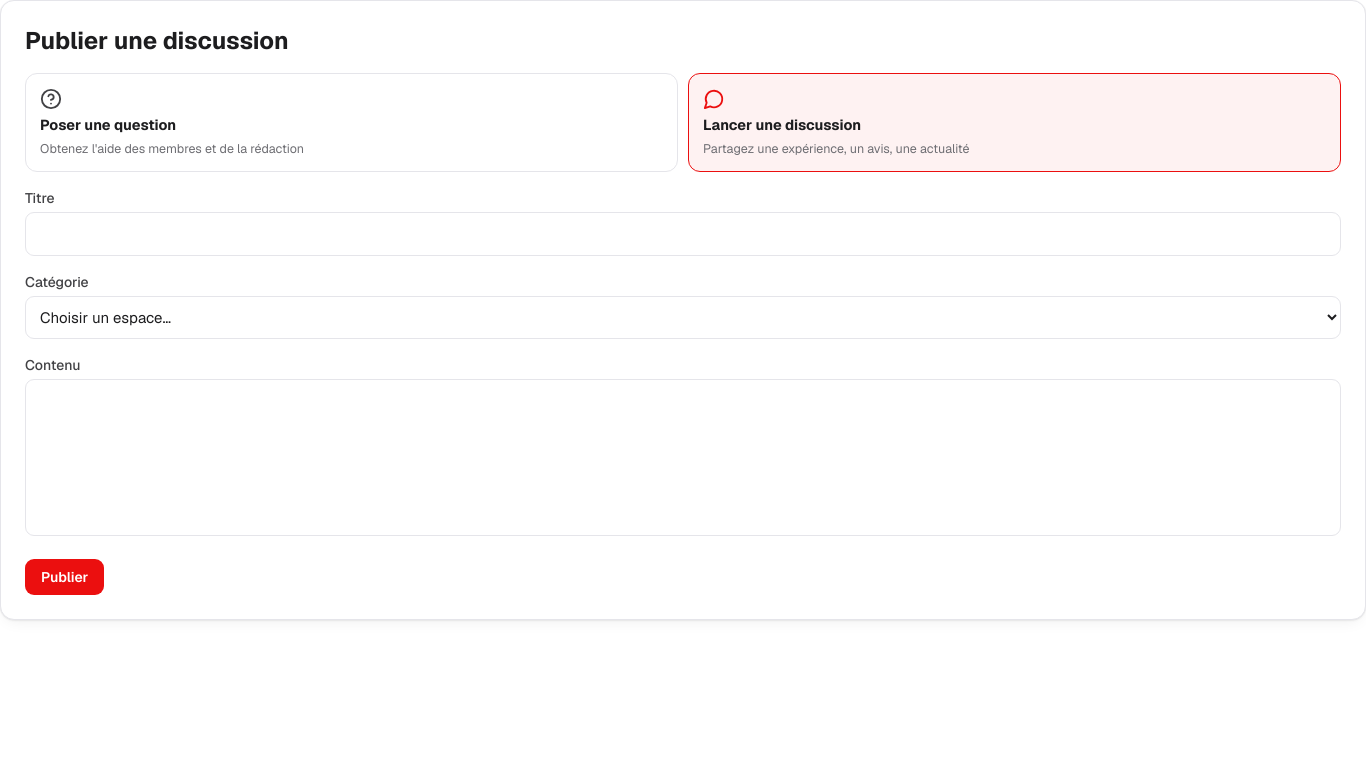
Test case: DiscussionForm › renders the server-mapped field error returned by the action
In the field labelled "Titre": (683, 234) x1=25 y1=212 x2=1341 y2=256, type "Un titre suffisamment long"
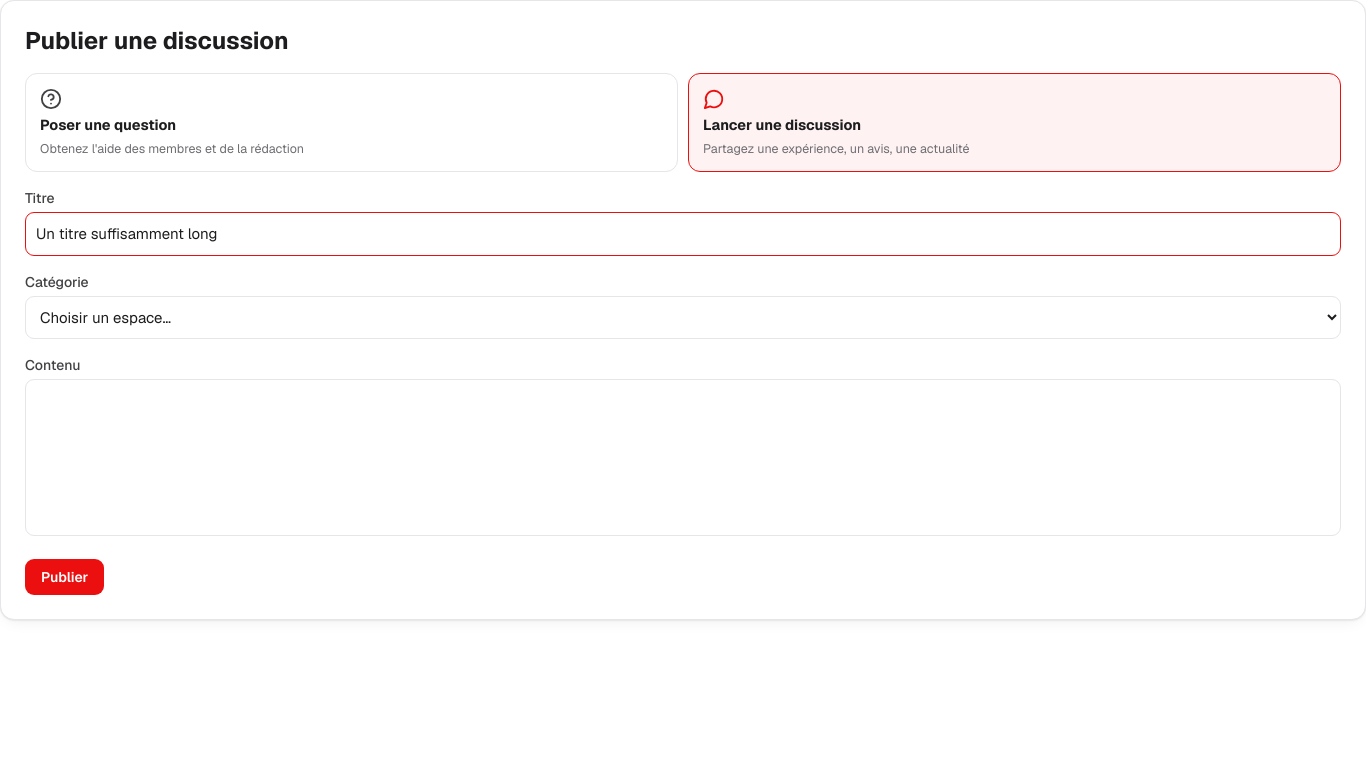
Select "Bourse & actions" in the dropdown labelled "Catégorie": (683, 318) x1=25 y1=296 x2=1341 y2=339
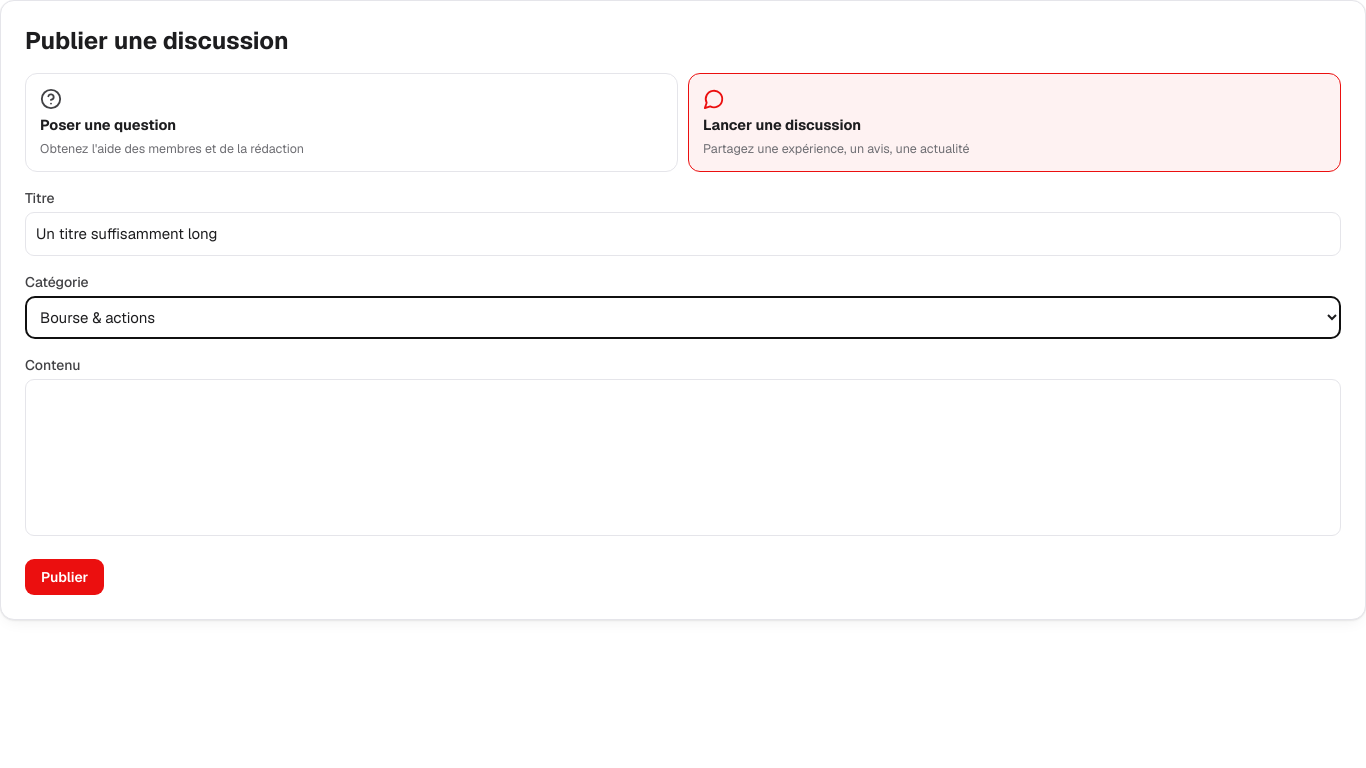
In the text box labelled "Contenu": (683, 458) x1=25 y1=379 x2=1341 y2=536, type "Un contenu valide pour la discussion."
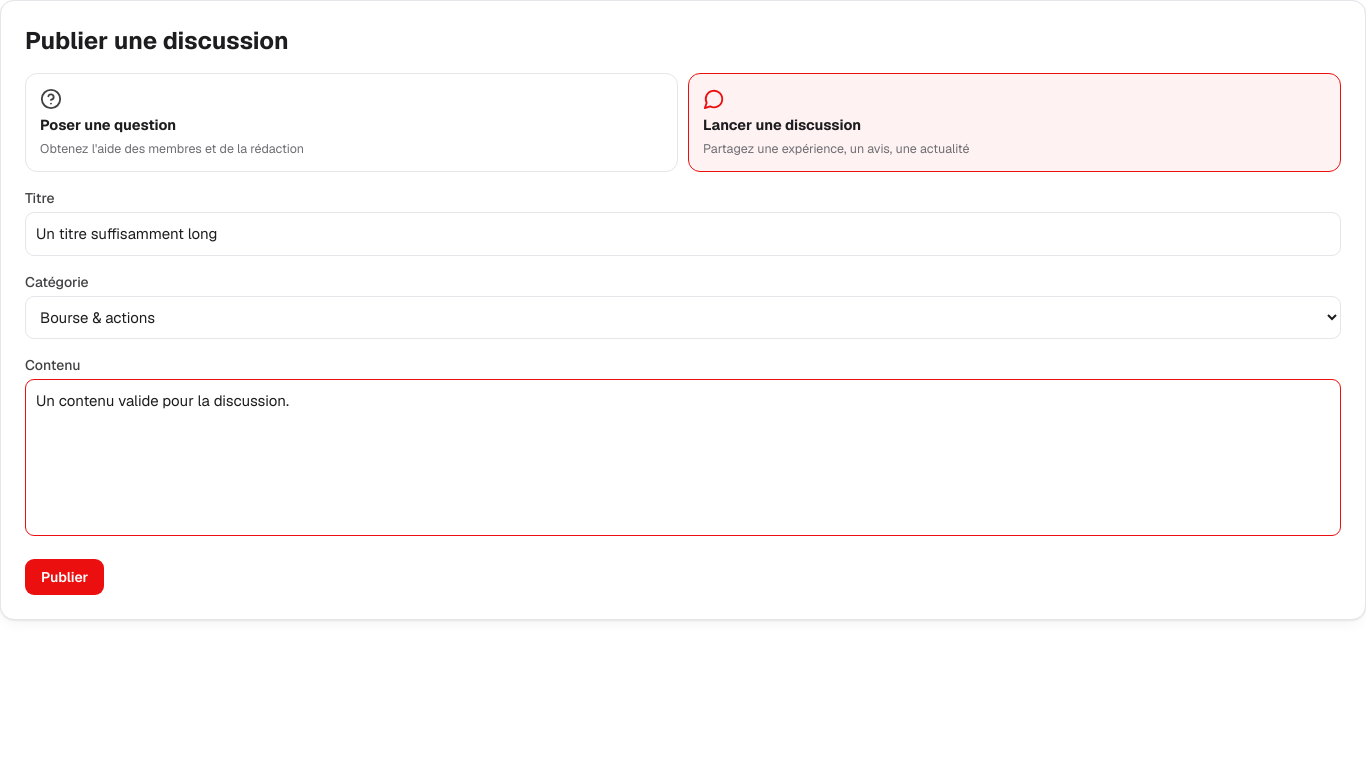
Click the button "Publier": (65, 577) x1=25 y1=559 x2=104 y2=595
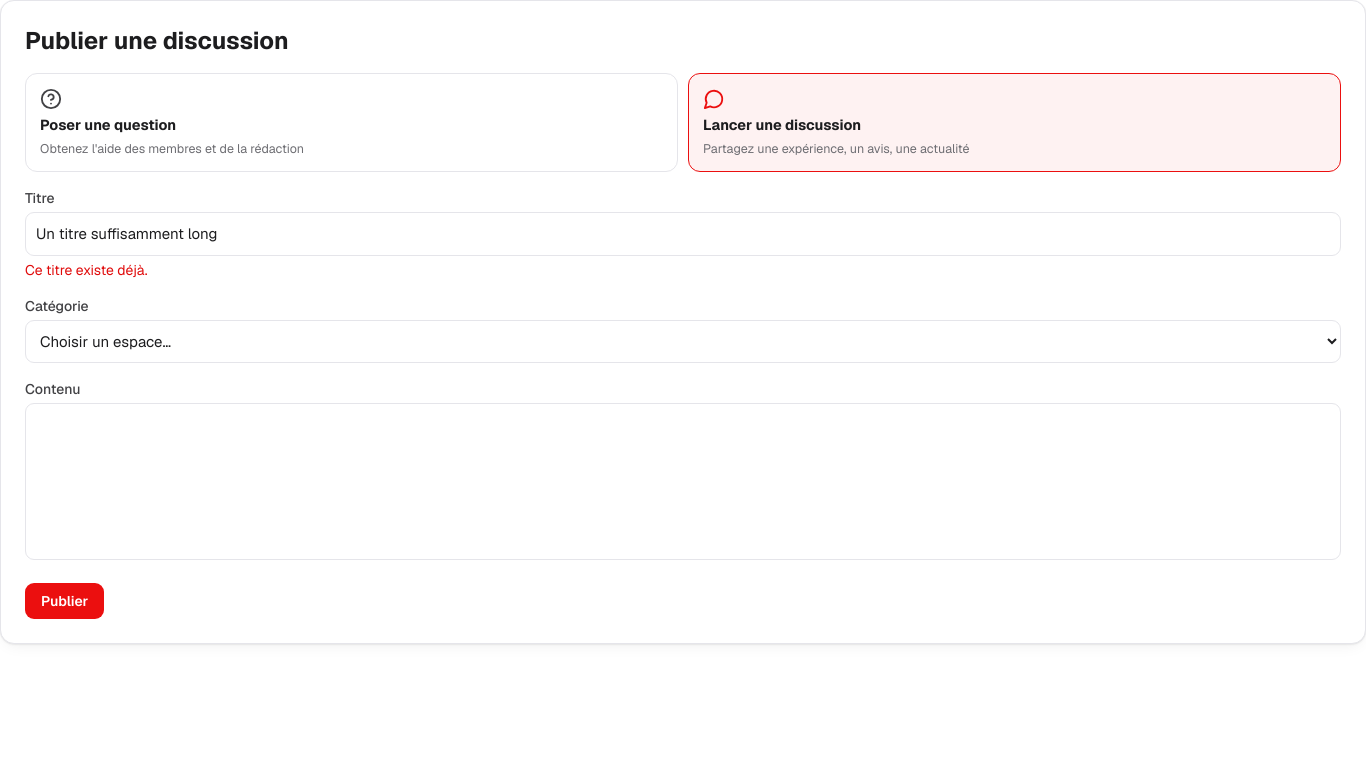
expect the text "Ce titre existe déjà." is shown: met, box x1=25 y1=261 x2=148 y2=279
